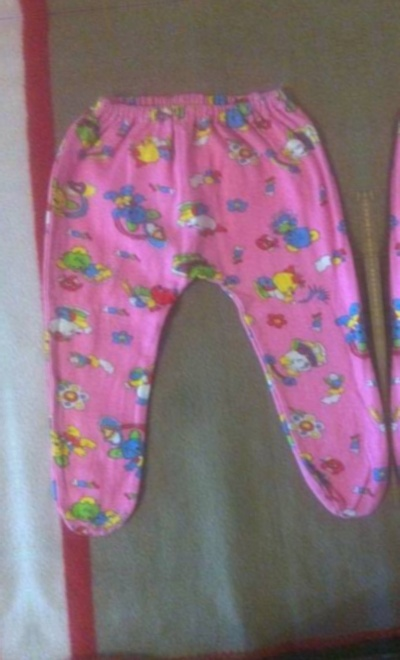Pants: (0, 44, 400, 592), (350, 7, 400, 555), (0, 83, 17, 631)
